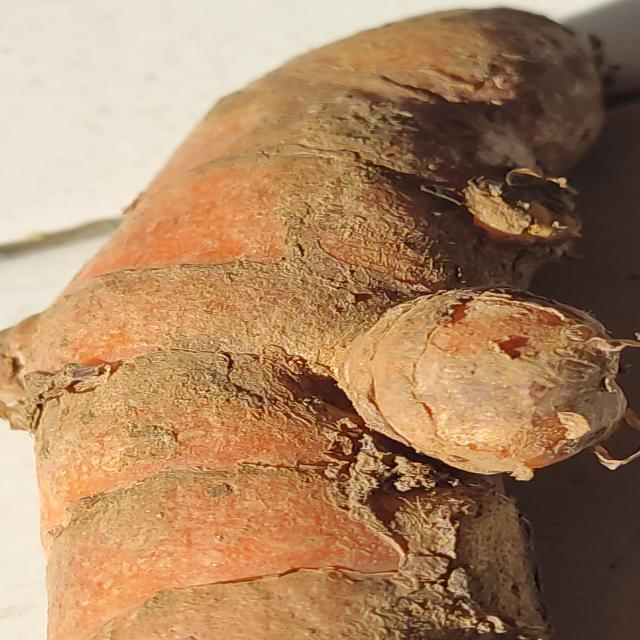ginger: (27, 5, 600, 636)
